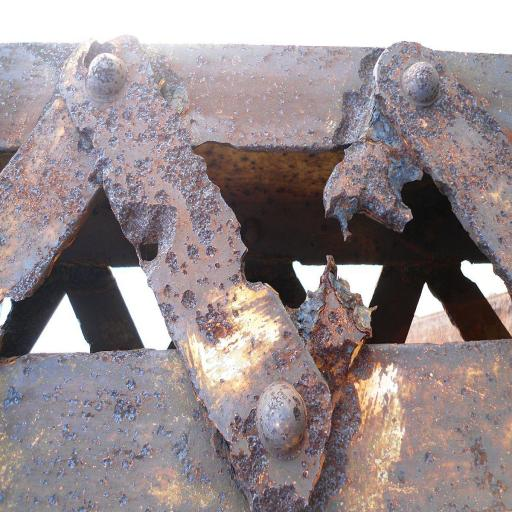segmentation: (0, 37, 339, 509), (323, 42, 512, 296), (194, 142, 484, 303), (0, 350, 256, 511), (0, 351, 250, 511), (326, 340, 512, 511), (141, 44, 384, 152), (294, 257, 372, 395), (0, 43, 78, 148), (0, 43, 77, 147), (425, 259, 512, 340), (434, 51, 512, 140), (67, 266, 143, 352), (0, 271, 69, 357), (56, 195, 138, 267), (376, 279, 418, 341)
